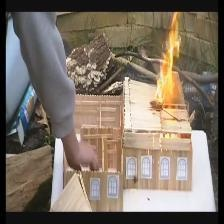fire: (146, 10, 190, 112)
